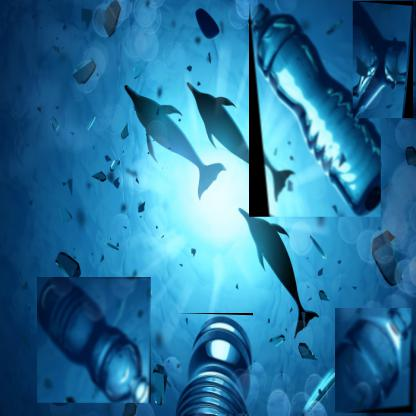bottle: (249, 2, 382, 218), (37, 277, 152, 404), (336, 308, 416, 414), (176, 313, 254, 415), (354, 1, 416, 119)
